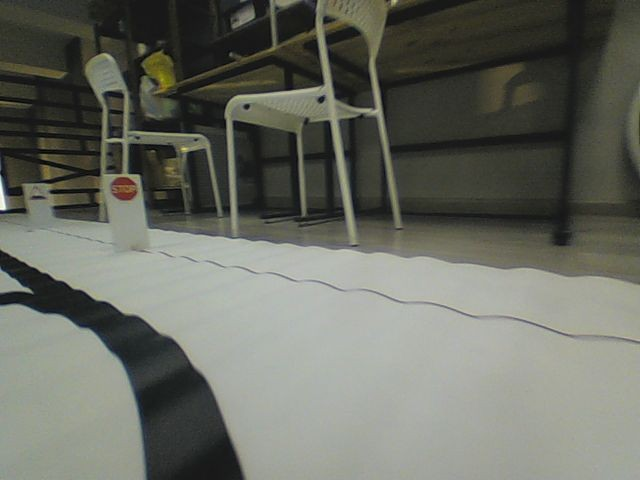Stop: (109, 175, 138, 202)
